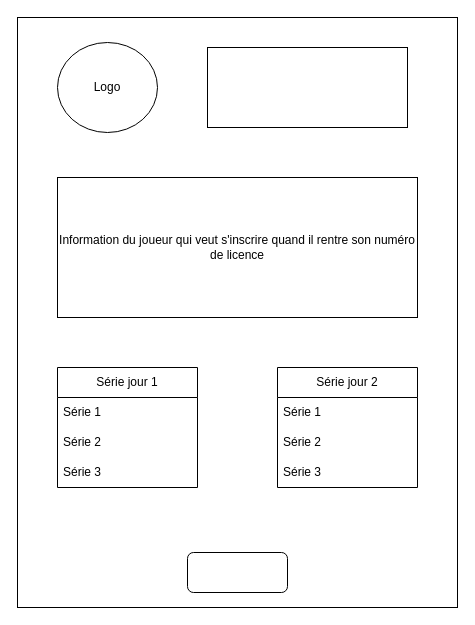
The diagram is 475 pixels wide and 625 high, and some of its shapes have lost their labels. Each missing label, with the box of its shape:
Envoyer: (186, 552, 288, 592)
Tournoi avec nom du club: (206, 46, 408, 128)
